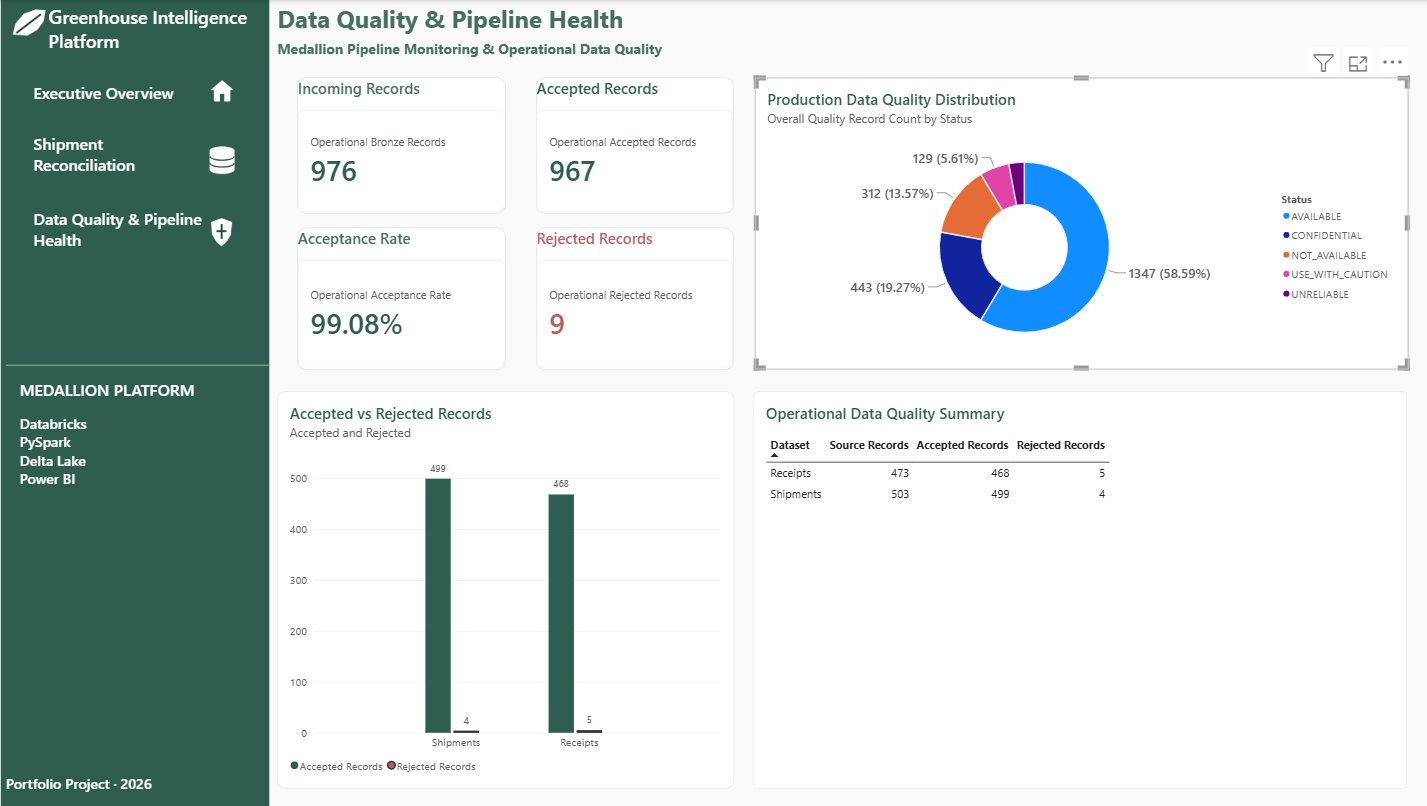

The page's visual inventory and layout, read from the dashboard file:
{"tool":"powerbi","page":{"name":"Data Quality & Pipeline Health","canvas":[1920,1080],"ordinal":2},"visuals":[{"type":"shape","box":[0,0,358.6,1080],"z":0,"group":"g2"},{"type":"cardVisual","title":"Acceptance Rate","fields":{"Data":["vw_operational_data_quality.Operational Acceptance Rate"]},"box":[395.7,304.3,278.6,190],"z":0},{"type":"image","box":[0,0,75.3,67.1],"z":1000,"group":"g2"},{"type":"cardVisual","title":"Incoming Records","fields":{"Data":["vw_operational_data_quality.Operational Bronze Records"]},"box":[395.7,104.3,278.6,181.4],"z":1000},{"type":"textbox","box":[62.9,2.9,285.7,118.6],"z":2000,"group":"g2"},{"type":"cardVisual","title":"Accepted Records","fields":{"Data":["vw_operational_data_quality.Operational Accepted Records"]},"box":[714.3,104.3,264.3,181.4],"z":2000},{"type":"actionButton","box":[37.7,98.6,293,65.7],"z":3000,"group":"g2"},{"type":"cardVisual","title":"Rejected Records","fields":{"Data":["vw_operational_data_quality.Operational Rejected Records"]},"box":[714.3,304.3,264.3,190],"z":3000},{"type":"donutChart","title":"Production Data Quality Distribution","fields":{"Category":["Quality Status.Status"],"Y":["vw_greenhouse_analytics.Overall Quality Record Count"]},"box":[1005.7,104.3,872.9,390],"z":4000},{"type":"textbox","box":[43.3,108.6,192.5,45.7],"z":4000,"group":"g2"},{"type":"group","id":"g1","title":"Group 1","box":[260.9,98.6,69.8,45.7],"z":5000,"group":"g2"},{"type":"clusteredColumnChart","title":"Accepted vs Rejected Records","fields":{"Category":["vw_operational_data_quality.dataset"],"Y":["Sum(vw_operational_data_quality.accepted_records)","Sum(vw_operational_data_quality.rejected_records)"]},"box":[368.6,522.9,610,531.4],"z":5000},{"type":"actionButton","box":[37.7,174.3,293,70],"z":6000,"group":"g2"},{"type":"tableEx","title":"Operational Data Quality Summary","fields":{"Values":["vw_operational_data_quality.dataset","Sum(vw_operational_data_quality.bronze_records)","Sum(vw_operational_data_quality.accepted_records)","Sum(vw_operational_data_quality.rejected_records)"]},"box":[1005.7,522.9,872.9,531.4],"z":6000},{"type":"image","box":[258.1,185.7,72.6,58.6],"z":7000,"group":"g2"},{"type":"textbox","box":[368.6,2.9,712.9,64.3],"z":8000},{"type":"textbox","box":[42.9,177.1,207.1,67.1],"z":8000,"group":"g2"},{"type":"textbox","box":[368.6,51.4,517.1,57.1],"z":9000},{"type":"actionButton","box":[37.7,277.1,293,67.1],"z":9000,"group":"g2"},{"type":"group","id":"g2","title":"Group 2","box":[0,0,358.6,1080],"z":9001},{"type":"image","box":[251.1,284.3,87.9,52.9],"z":10000,"group":"g2"},{"type":"textbox","box":[43.3,277.1,256.7,67.1],"z":11000,"group":"g2"},{"type":"shape","box":[7,451.4,351.6,74.3],"z":12000,"group":"g2"},{"type":"textbox","box":[25.1,505.7,293,40],"z":13000,"group":"g2"},{"type":"textbox","box":[25.1,552.9,293,114.3],"z":14000,"group":"g2"},{"type":"textbox","box":[7,1034.3,293,34.3],"z":15000,"group":"g2"},{"type":"image","box":[260.9,98.6,69.8,45.7],"z":17001,"group":"g1"}]}

Visuals, with their boxes on the page's 1920x1080 design canvas (x1, y1, x2, y2). These are canvas units, not pixel positions in the 1427x806 screenshot, which may show the page scaled, cropped or inside an application window:
shape: 0:0:359:1080
"Acceptance Rate" cardVisual: 396:304:674:494
image: 0:0:75:67
"Incoming Records" cardVisual: 396:104:674:286
textbox: 63:3:349:122
"Accepted Records" cardVisual: 714:104:979:286
actionButton: 38:99:331:164
"Rejected Records" cardVisual: 714:304:979:494
"Production Data Quality Distribution" donutChart: 1006:104:1879:494
textbox: 43:109:236:154
"Group 1" group: 261:99:331:144
"Accepted vs Rejected Records" clusteredColumnChart: 369:523:979:1054
actionButton: 38:174:331:244
"Operational Data Quality Summary" tableEx: 1006:523:1879:1054
image: 258:186:331:244
textbox: 369:3:1082:67
textbox: 43:177:250:244
textbox: 369:51:886:108
actionButton: 38:277:331:344
"Group 2" group: 0:0:359:1080
image: 251:284:339:337
textbox: 43:277:300:344
shape: 7:451:359:526
textbox: 25:506:318:546
textbox: 25:553:318:667
textbox: 7:1034:300:1069
image: 261:99:331:144
